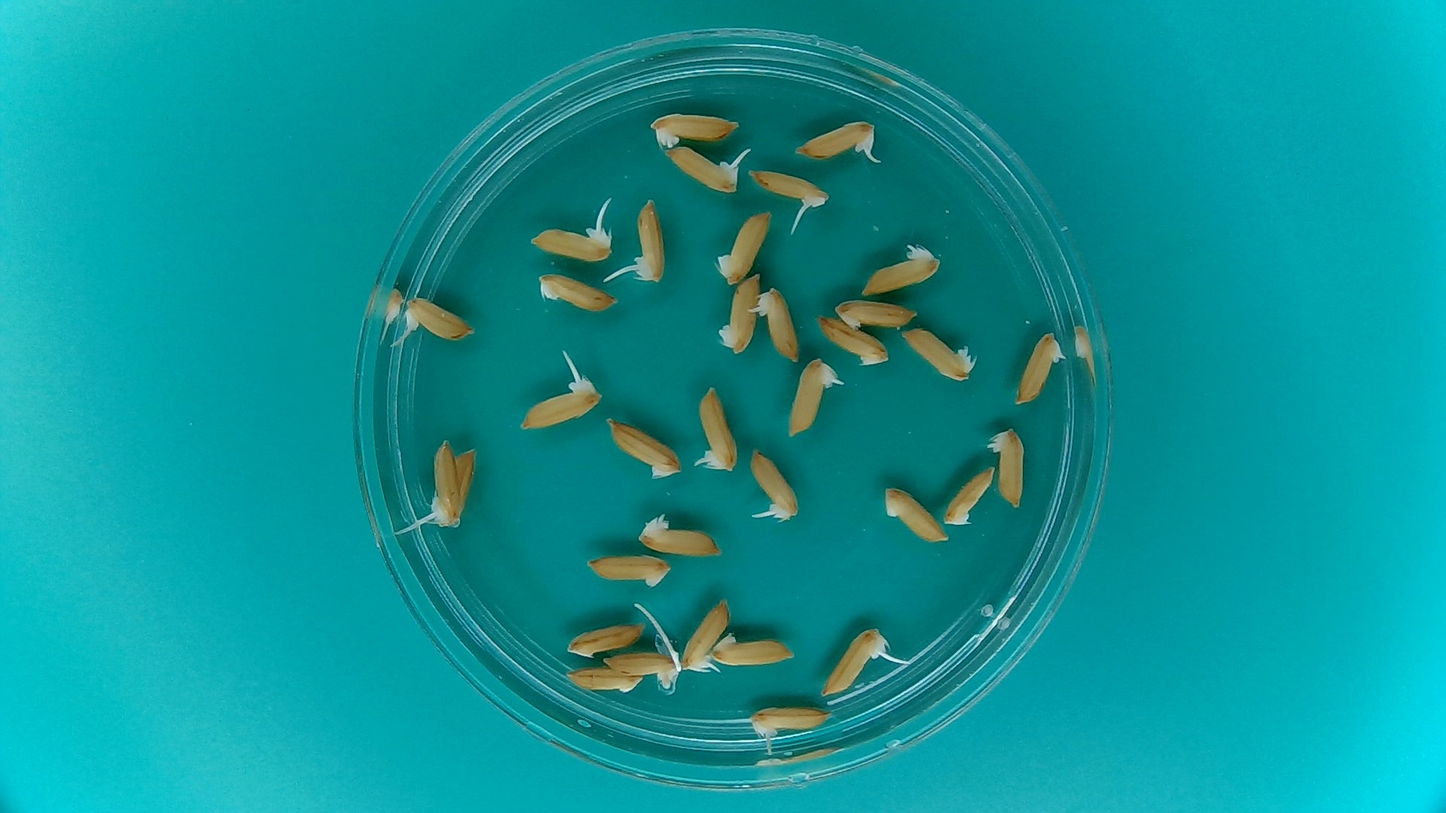no: (603, 413, 685, 480), (714, 206, 775, 288), (897, 323, 978, 384), (1013, 327, 1071, 410), (812, 312, 892, 368), (881, 483, 950, 545), (636, 512, 726, 558), (715, 270, 761, 356), (534, 268, 620, 312), (581, 550, 674, 589), (646, 107, 741, 145), (563, 617, 648, 659), (941, 463, 997, 526), (710, 631, 798, 669), (832, 295, 920, 330), (565, 665, 648, 697), (451, 442, 479, 524)
yes: (783, 355, 844, 440), (746, 444, 802, 524), (662, 142, 748, 194), (693, 382, 740, 477), (821, 629, 886, 696), (520, 376, 596, 432), (855, 248, 941, 297), (791, 116, 880, 163), (398, 294, 478, 344), (754, 283, 802, 363), (986, 423, 1029, 510), (679, 601, 729, 674), (528, 222, 611, 265), (749, 168, 828, 209), (745, 703, 828, 738), (601, 649, 682, 683), (635, 198, 665, 286), (429, 440, 457, 526)
